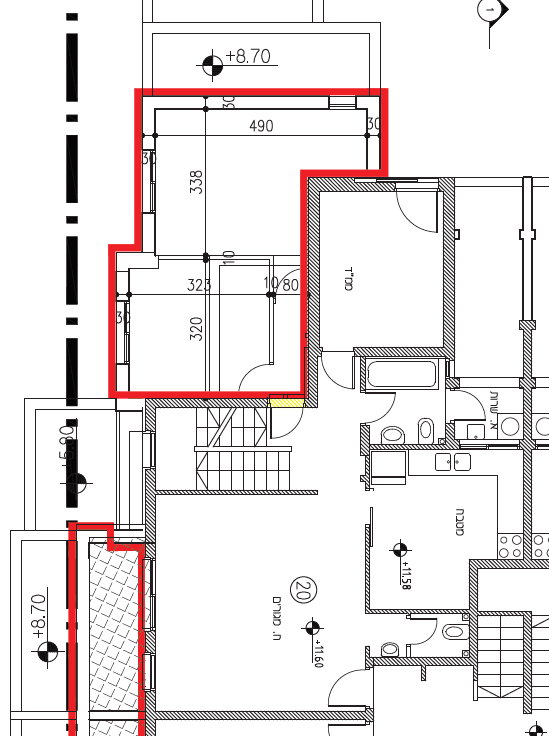door: (393, 196, 437, 233), (326, 669, 363, 708), (267, 409, 307, 442), (322, 361, 354, 394), (235, 364, 267, 393), (370, 395, 399, 423), (460, 390, 487, 417), (413, 619, 438, 643)
wall: (442, 180, 456, 359), (310, 182, 319, 406), (524, 320, 532, 558), (147, 713, 370, 719), (144, 469, 156, 558), (144, 400, 260, 409), (468, 573, 478, 666), (354, 347, 443, 357), (369, 657, 463, 665), (524, 614, 531, 715), (468, 561, 549, 569), (157, 490, 314, 494), (365, 525, 369, 612), (146, 631, 156, 655), (478, 611, 522, 616), (145, 415, 157, 430), (148, 722, 155, 736)
